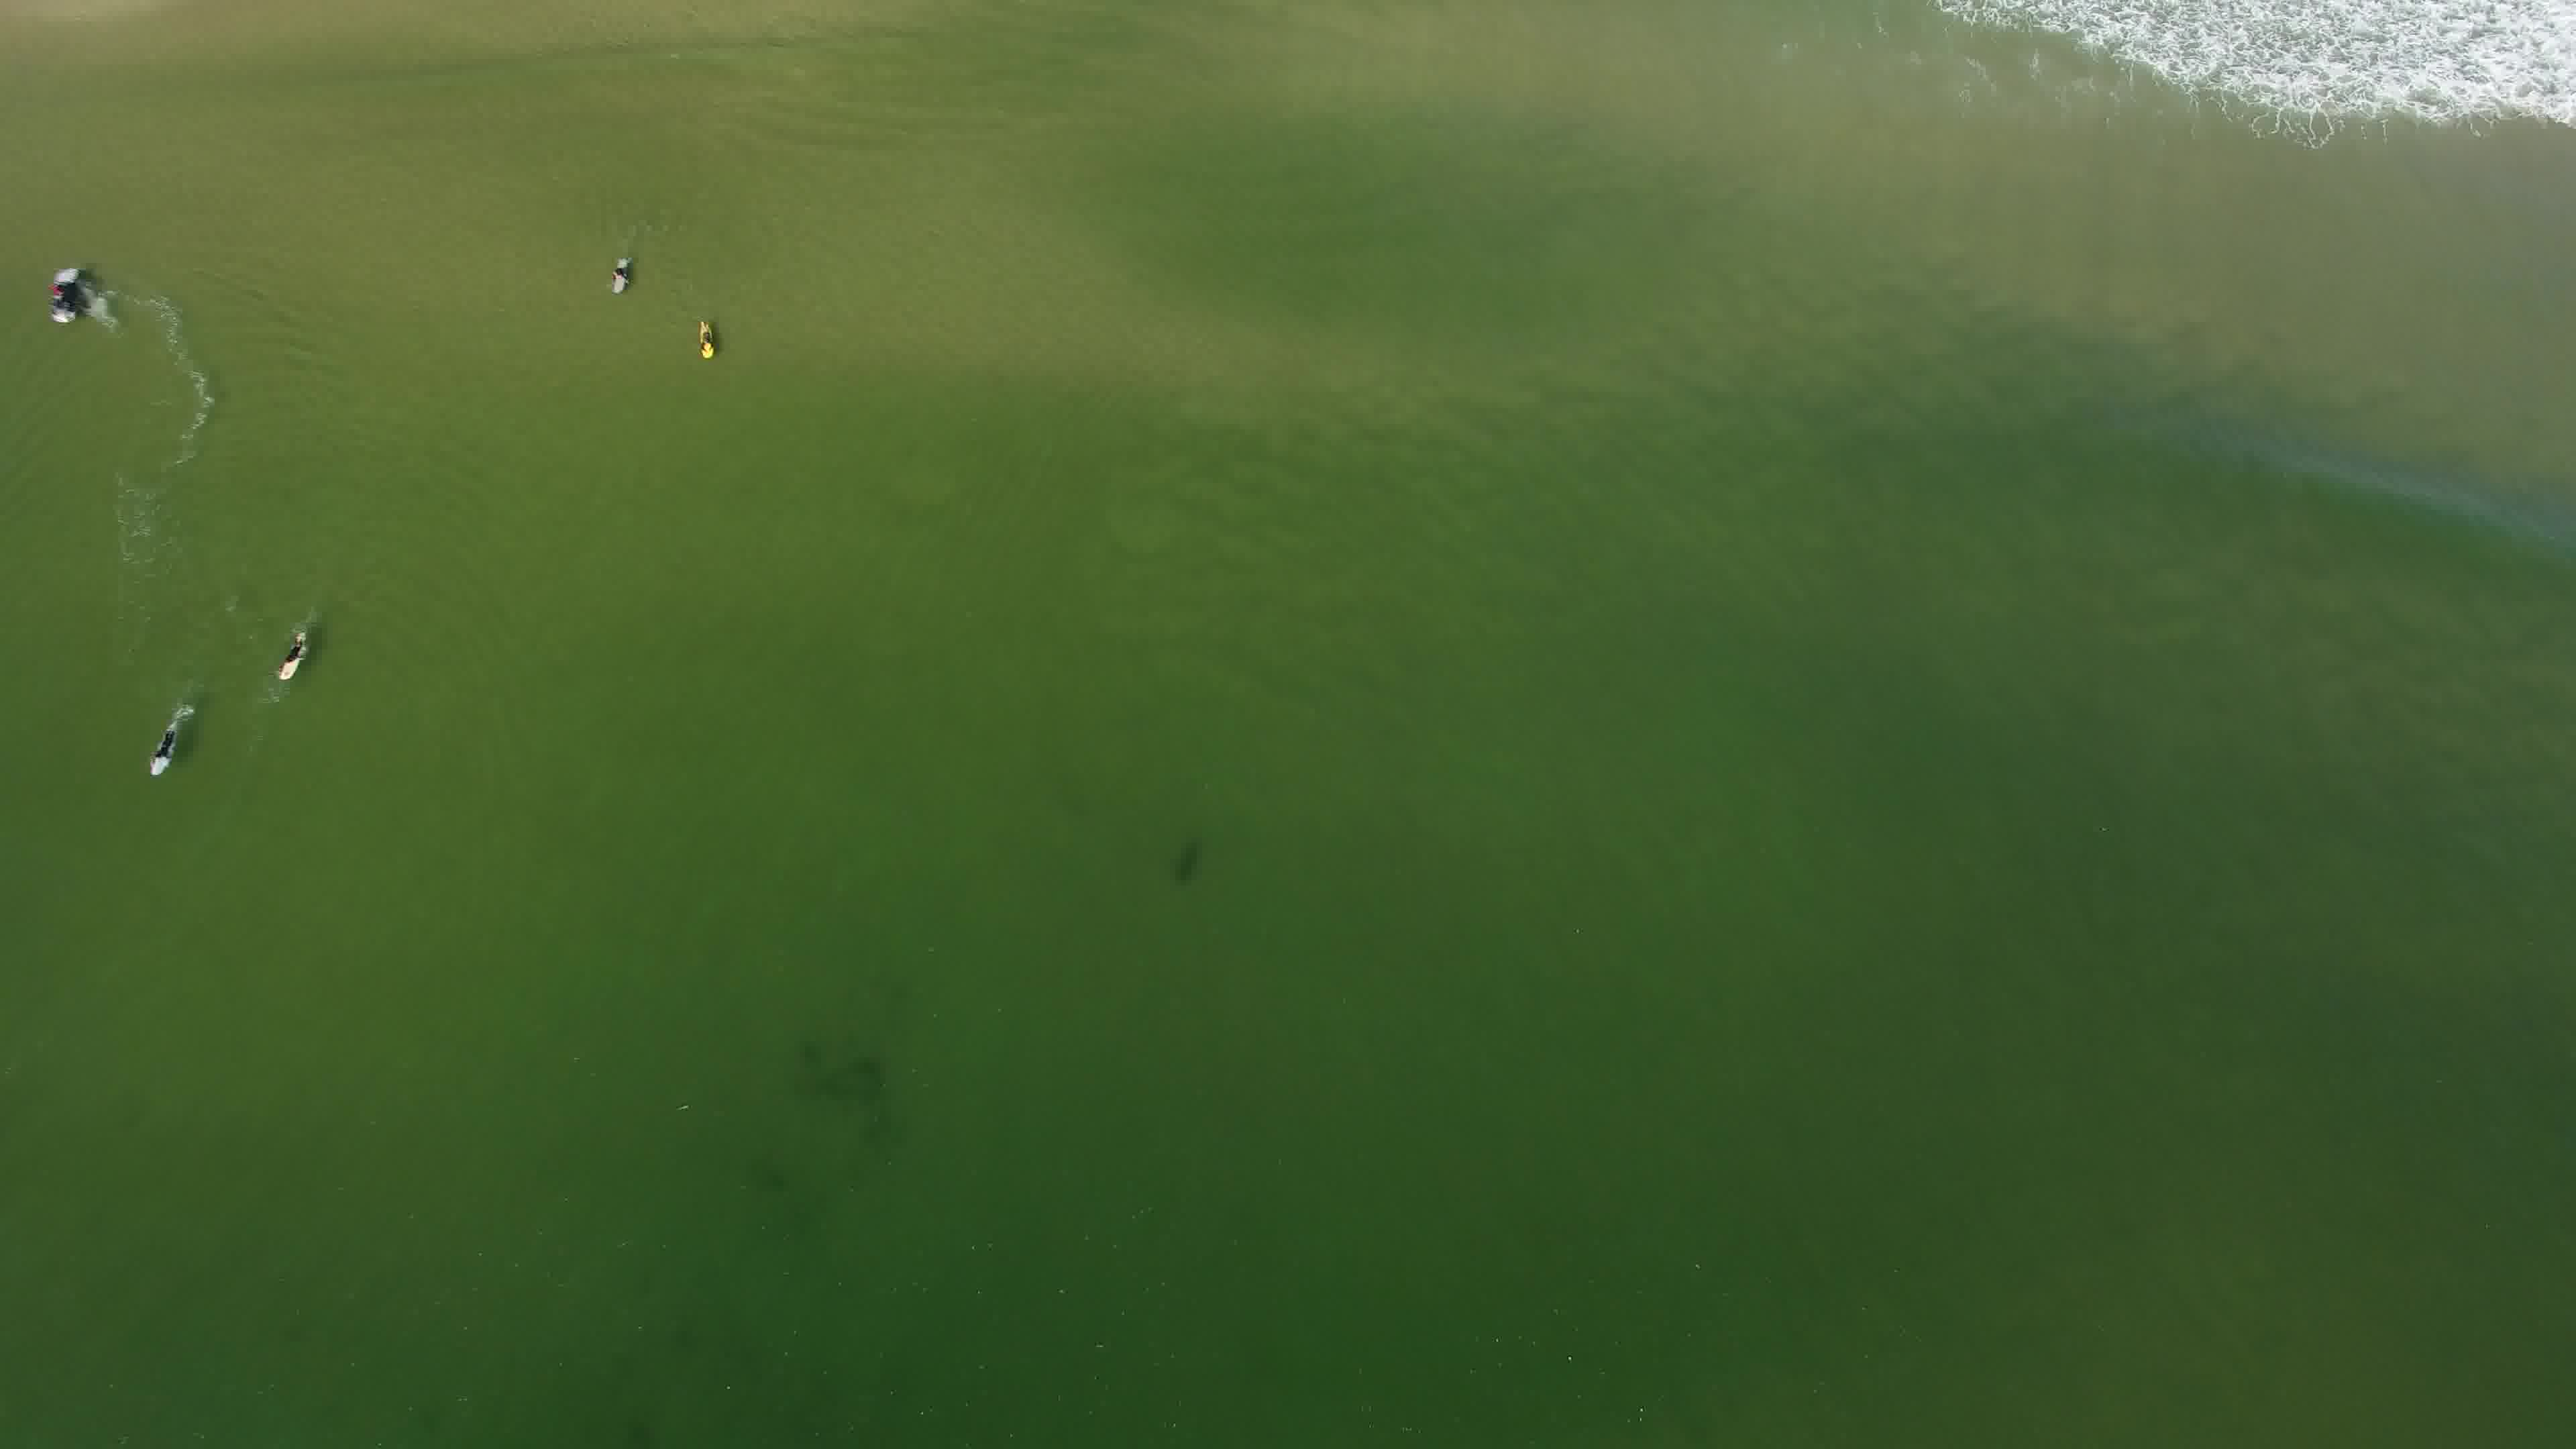surfer: (140, 706, 191, 780), (278, 612, 313, 688), (688, 310, 729, 364), (605, 253, 632, 299)
